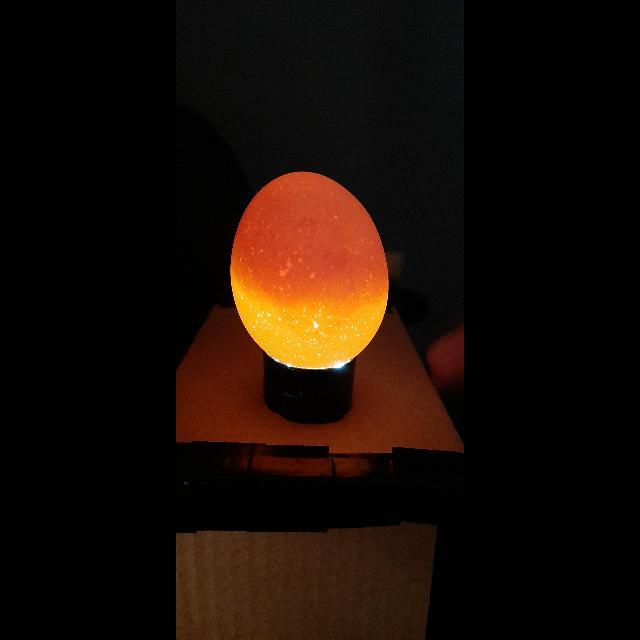Fertile: (236, 166, 388, 370)
